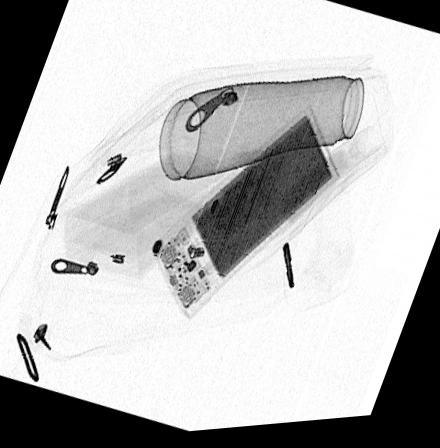Powerbank: (152, 109, 341, 320)
